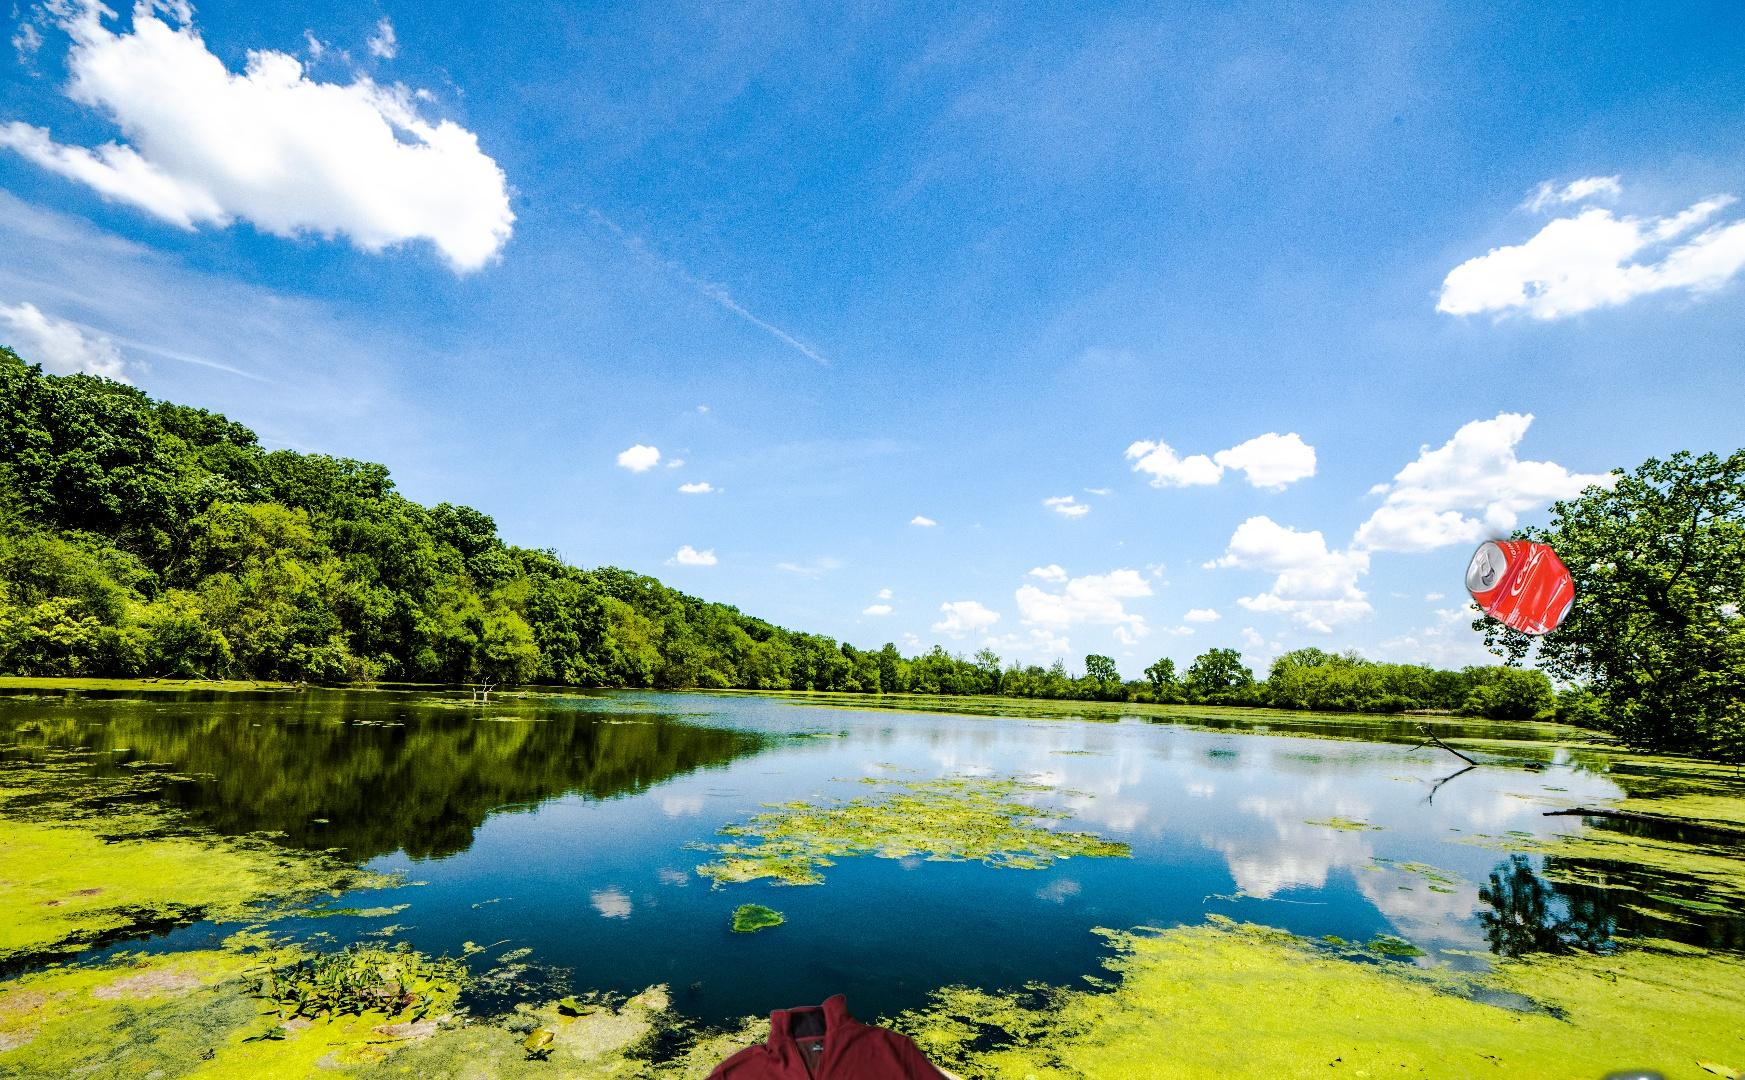battery: (1412, 1040, 1745, 1080)
clothes: (634, 991, 996, 1080)
metal-cans: (1362, 524, 1745, 972)
